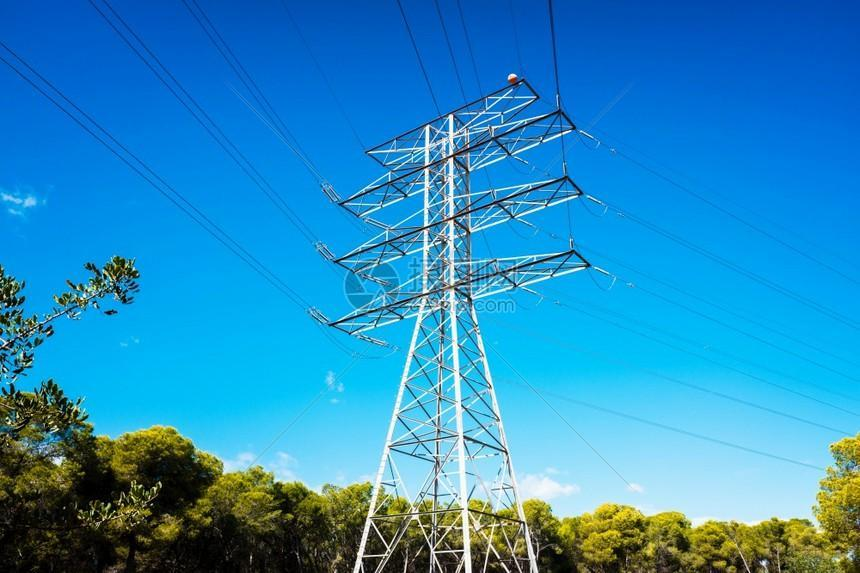power_tower: (322, 74, 592, 573)
